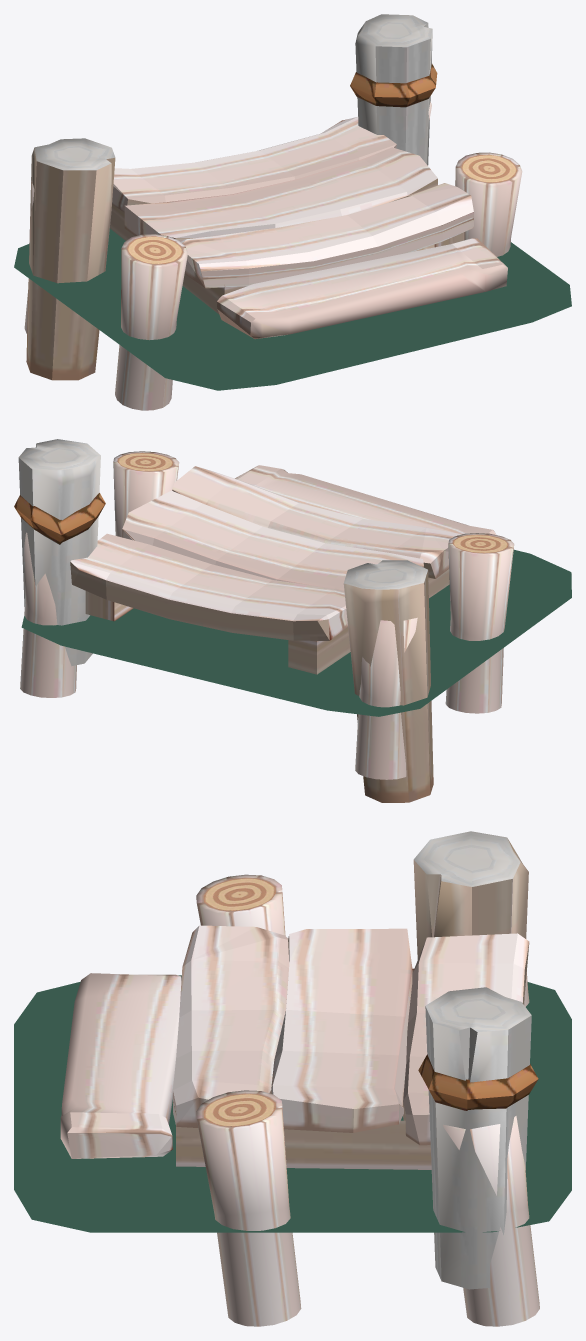
The model's file is FishingpondJetty.fbx.
3 renders of one model, top to bottom at view 1: azimuth 30°, elevation 25°; view 2: azimuth 150°, elevation 25°; view 3: azimuth 270°, elevation 25°, orthographic. The views are drawn at different scales.
Visible parts, largest first — view 1: Object009 (13), ShadowSquareWater (6), Object012 (9), Object011 (6), PierBeam (×2), Object001 (4); view 2: Object009 (13), ShadowSquareWater (6), PierBeam (×4), Object012 (9), Object001 (4), Object011 (6); view 3: Object009 (13), ShadowSquareWater (6), PierBeam (×3), Object001 (4), Object011 (6), Object012 (9).
Boxes of the visible parts, x1,y1,x2,y2 form: Object009 (13): (110,117,473,314); ShadowSquareWater (6): (14,228,571,390); Object012 (9): (26,138,115,380); Object011 (6): (216,238,507,339); PierBeam (×2): (115,152,522,410); Object001 (4): (350,14,437,165); Object009 (13): (70,466,461,674); ShadowSquareWater (6): (21,549,571,716); PierBeam (×4): (20,451,514,779); Object012 (9): (343,560,433,802); Object001 (4): (14,439,105,666); Object011 (6): (235,465,496,534); Object009 (13): (173,925,529,1169); ShadowSquareWater (6): (14,975,571,1232); PierBeam (×3): (196,874,539,1326); Object001 (4): (418,987,538,1289); Object011 (6): (60,973,181,1158); Object012 (9): (413,831,528,959).
Bounding box in the file's own units: 2.9 × 1.74 × 2.59.
